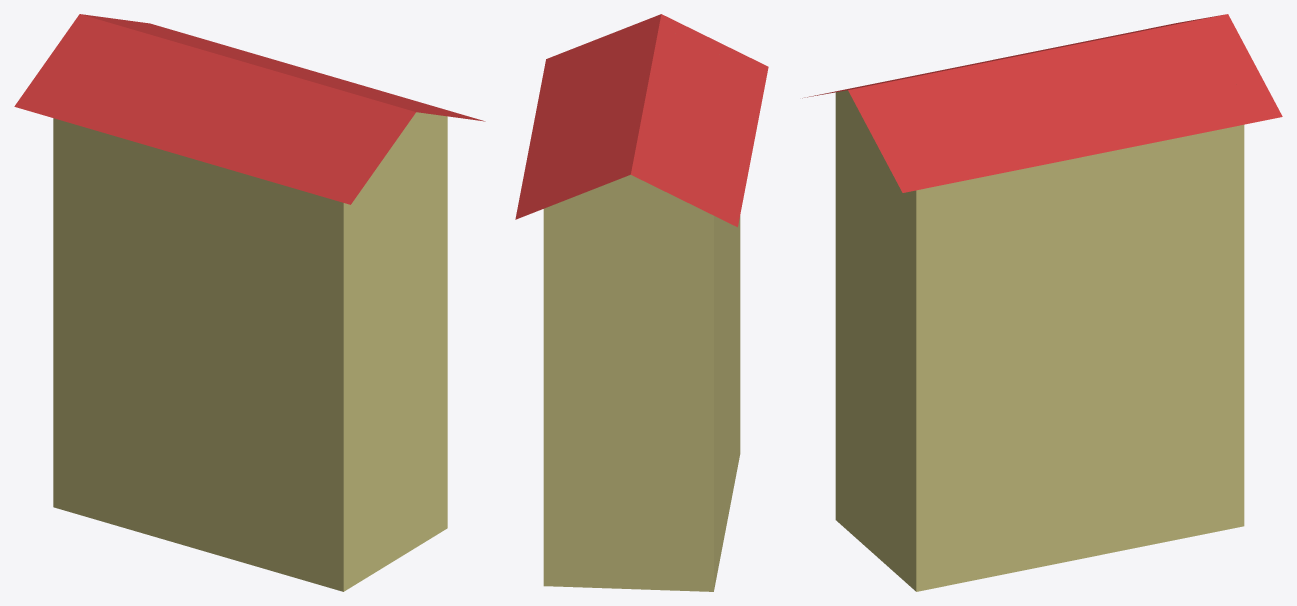
3 views of the same model, side by side, from view 1: azimuth 30°, elevation 25°; view 2: azimuth 150°, elevation 25°; view 3: azimuth 270°, elevation 25° (orthographic). The views are drawn at different scales.
Size of the model in its own units: 6.96 by 8.39 by 8.95.
